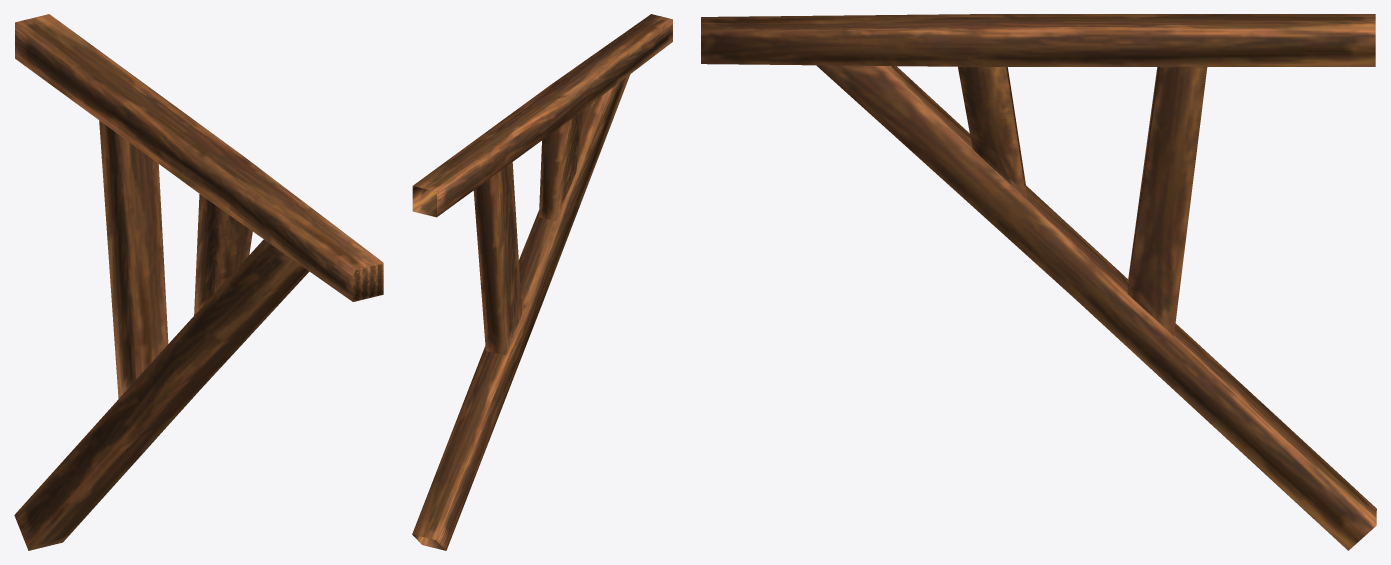
Rendered from INST_SWORDLIGHT_TRACKBRACKC.fbx.
3 renders of one model, left to right at view 1: azimuth 30°, elevation 25°; view 2: azimuth 150°, elevation 25°; view 3: azimuth 270°, elevation 25°, orthographic. The views are drawn at different scales.
Visible parts, largest first — view 1: INST_SWORDLIGHT_TRACKBRACKC; view 2: INST_SWORDLIGHT_TRACKBRACKC; view 3: INST_SWORDLIGHT_TRACKBRACKC.
Boxes of the visible parts, x1,y1,x2,y2 form: INST_SWORDLIGHT_TRACKBRACKC: (14, 14, 383, 550); INST_SWORDLIGHT_TRACKBRACKC: (412, 14, 672, 550); INST_SWORDLIGHT_TRACKBRACKC: (701, 14, 1376, 550).
Size of the model in its own units: 4597 by 65740 by 77400.
1 material, 1 textured.
